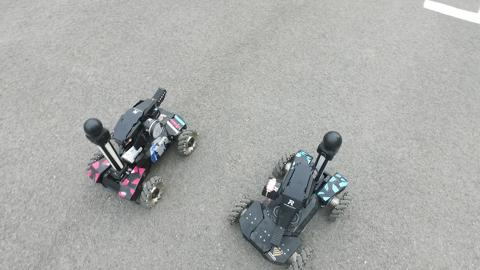chariot: (61, 69, 211, 219), (224, 119, 361, 270)
